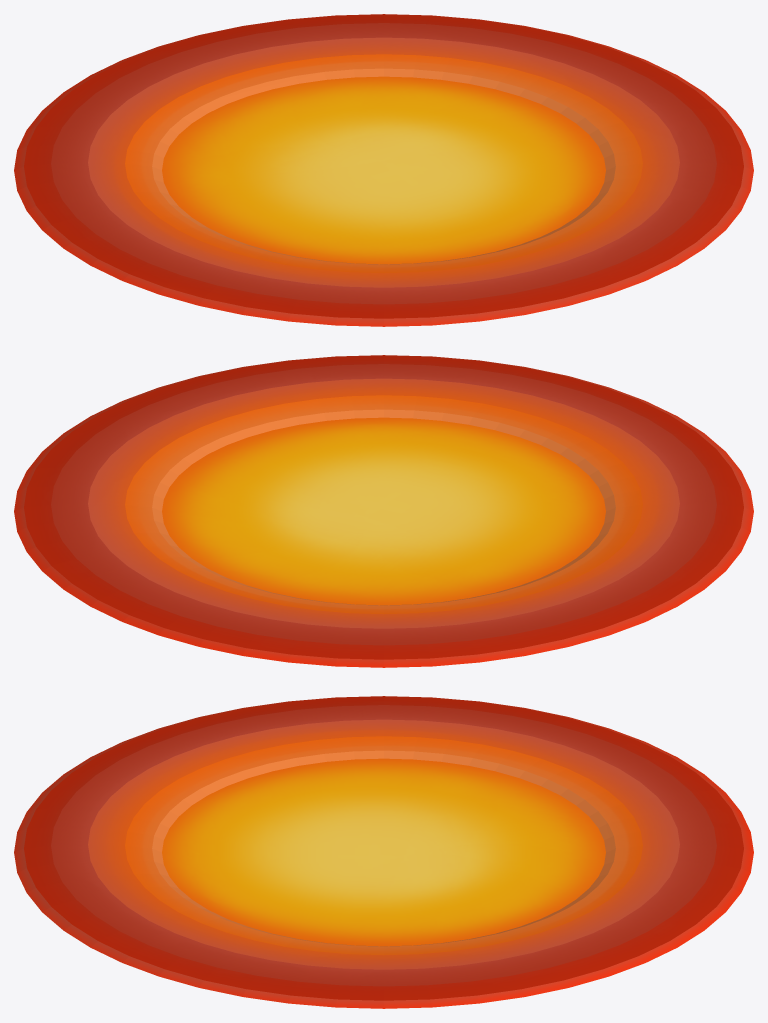
File: slipDamage.obj
3 views of the same model, one above another, from view 1: azimuth 30°, elevation 25°; view 2: azimuth 150°, elevation 25°; view 3: azimuth 270°, elevation 25° (orthographic).
Visible parts, largest first — view 1: トーラス, トーラス.001; view 2: トーラス, トーラス.001; view 3: トーラス, トーラス.001.
Boxes of the visible parts, x1,y1,x2,y2 form: トーラス: (14,14,753,326); トーラス.001: (162,76,605,264); トーラス: (14,355,753,667); トーラス.001: (162,417,605,605); トーラス: (14,696,753,1008); トーラス.001: (162,758,605,946).
Bounding box in the file's own units: 3.07 × 0.0716 × 3.07.
1 material, 1 textured.
